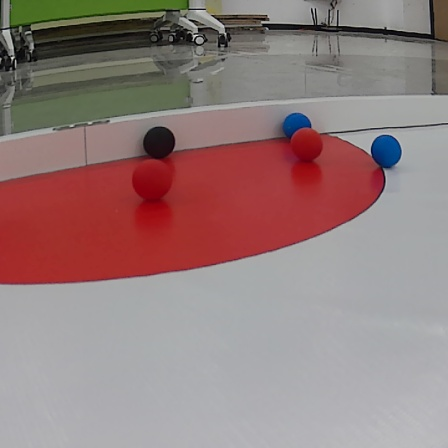black: (143, 127, 180, 154)
blue: (369, 136, 407, 169), (281, 110, 309, 134)
red: (134, 160, 175, 200), (290, 127, 325, 165)
red_base: (1, 129, 388, 278)
